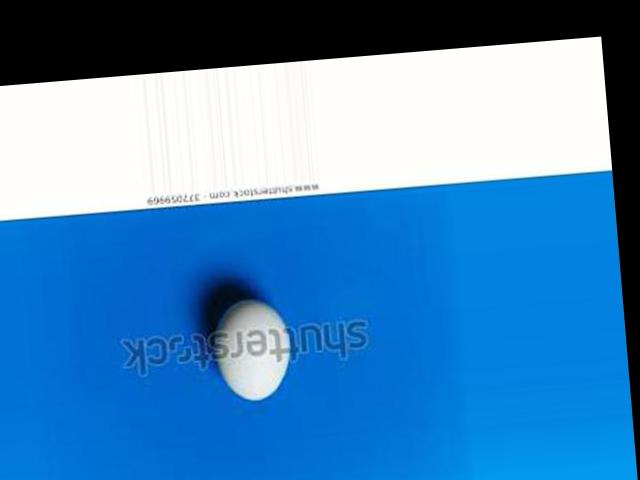egg: (211, 296, 292, 406)
